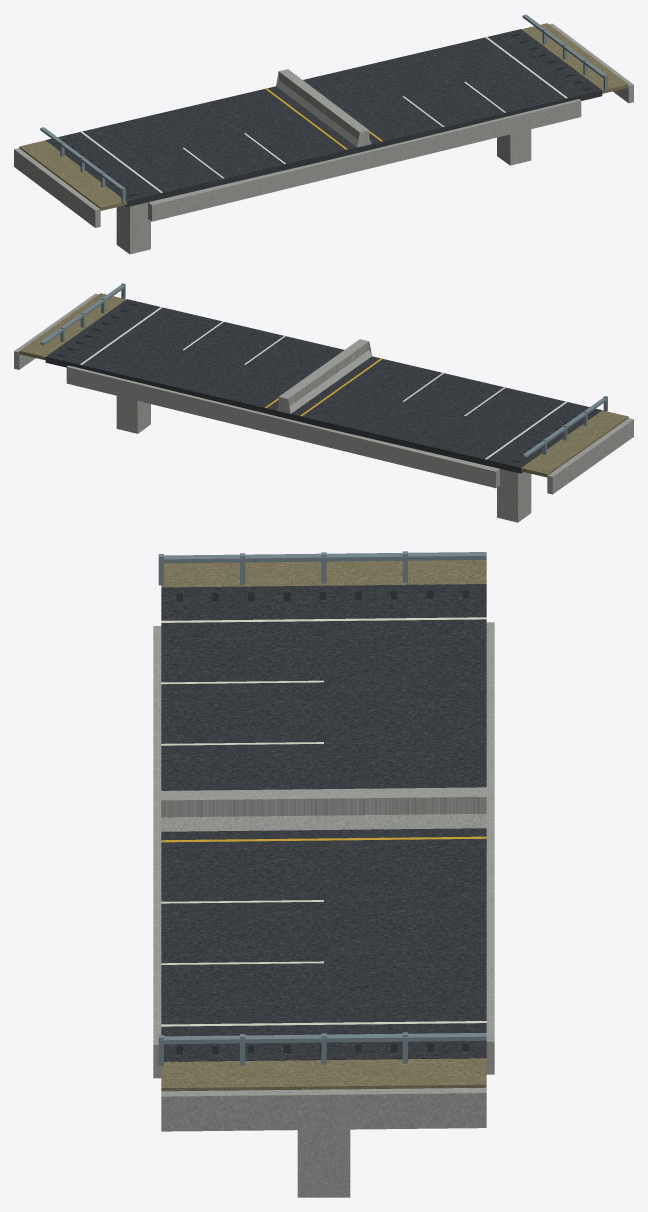
3 views of the same model, one above another, from view 1: azimuth 30°, elevation 25°; view 2: azimuth 150°, elevation 25°; view 3: azimuth 270°, elevation 25° (orthographic). The views are drawn at different scales.
Visible parts, largest first — view 1: VIS_Deck_Asphalt_001, VIS_Support_Crossbeam_001, VIS_Barrier_Jersey_001, VIS_Shoulder_Verge_001, VIS_Retaining_Edge_001, VIS_Shoulder_Verge_002, VIS_Support_Pier_001, VIS_Support_Pier_002, VIS_Retaining_Edge_002, VIS_Guard_East_Beam_001, VIS_Guard_West_Beam_001; view 2: VIS_Deck_Asphalt_001, VIS_Support_Crossbeam_002, VIS_Barrier_Jersey_001, VIS_Shoulder_Verge_001, VIS_Retaining_Edge_001, VIS_Shoulder_Verge_002, VIS_Support_Pier_001, VIS_Support_Pier_002, VIS_Retaining_Edge_002, VIS_Guard_West_Beam_001, VIS_Guard_East_Beam_001; view 3: VIS_Deck_Asphalt_001, VIS_Barrier_Jersey_001, VIS_Retaining_Edge_002, VIS_Shoulder_Verge_002, VIS_Shoulder_Verge_001, VIS_Support_Crossbeam_002, VIS_Support_Crossbeam_001, VIS_Support_Pier_002, VIS_Guard_West_Beam_001, VIS_Guard_East_Beam_001, VIS_Paint_Edge_001, VIS_Paint_Edge_004 (+1 smaller).
Boxes of the visible parts, <box> form: VIS_Deck_Asphalt_001: <box>46,29,602,206</box>; VIS_Support_Crossbeam_001: <box>148,99,581,221</box>; VIS_Barrier_Jersey_001: <box>276,69,371,147</box>; VIS_Shoulder_Verge_001: <box>19,140,126,210</box>; VIS_Retaining_Edge_001: <box>14,148,100,227</box>; VIS_Shoulder_Verge_002: <box>521,23,628,93</box>; VIS_Support_Pier_001: <box>116,202,150,254</box>; VIS_Support_Pier_002: <box>497,129,531,165</box>; VIS_Retaining_Edge_002: <box>549,23,633,103</box>; VIS_Guard_East_Beam_001: <box>522,14,605,78</box>; VIS_Guard_West_Beam_001: <box>40,127,123,191</box>; VIS_Deck_Asphalt_001: <box>45,299,601,473</box>; VIS_Support_Crossbeam_002: <box>66,365,499,488</box>; VIS_Barrier_Jersey_001: <box>276,339,371,413</box>; VIS_Shoulder_Verge_001: <box>521,410,628,477</box>; VIS_Retaining_Edge_001: <box>547,418,633,494</box>; VIS_Shoulder_Verge_002: <box>19,293,126,360</box>; VIS_Support_Pier_001: <box>497,469,531,522</box>; VIS_Support_Pier_002: <box>116,396,150,433</box>; VIS_Retaining_Edge_002: <box>14,293,98,369</box>; VIS_Guard_West_Beam_001: <box>522,397,607,457</box>; VIS_Guard_East_Beam_001: <box>40,285,125,344</box>; VIS_Deck_Asphalt_001: <box>161,584,486,1061</box>; VIS_Barrier_Jersey_001: <box>161,787,486,831</box>; VIS_Retaining_Edge_002: <box>161,1087,486,1131</box>; VIS_Shoulder_Verge_002: <box>161,1058,486,1091</box>; VIS_Shoulder_Verge_001: <box>161,560,486,587</box>; VIS_Support_Crossbeam_002: <box>486,622,494,1074</box>; VIS_Support_Crossbeam_001: <box>153,626,161,1078</box>; VIS_Support_Pier_002: <box>297,1129,350,1197</box>; VIS_Guard_West_Beam_001: <box>161,552,486,563</box>; VIS_Guard_East_Beam_001: <box>161,1033,486,1044</box>; VIS_Paint_Edge_001: <box>161,617,486,622</box>; VIS_Paint_Edge_004: <box>161,1021,486,1026</box>.
Size of the model in its own units: 30.6 by 5.79 by 8.4.
Materials: 7 (7 with a texture image).
